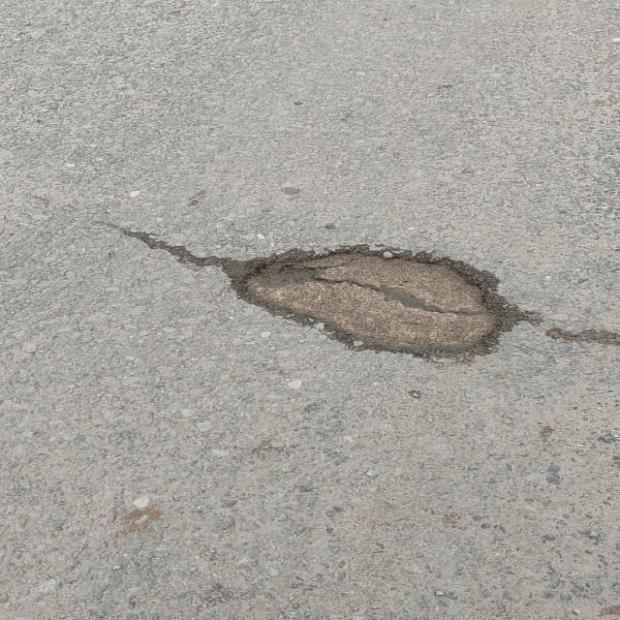lubang: (124, 231, 533, 356)
